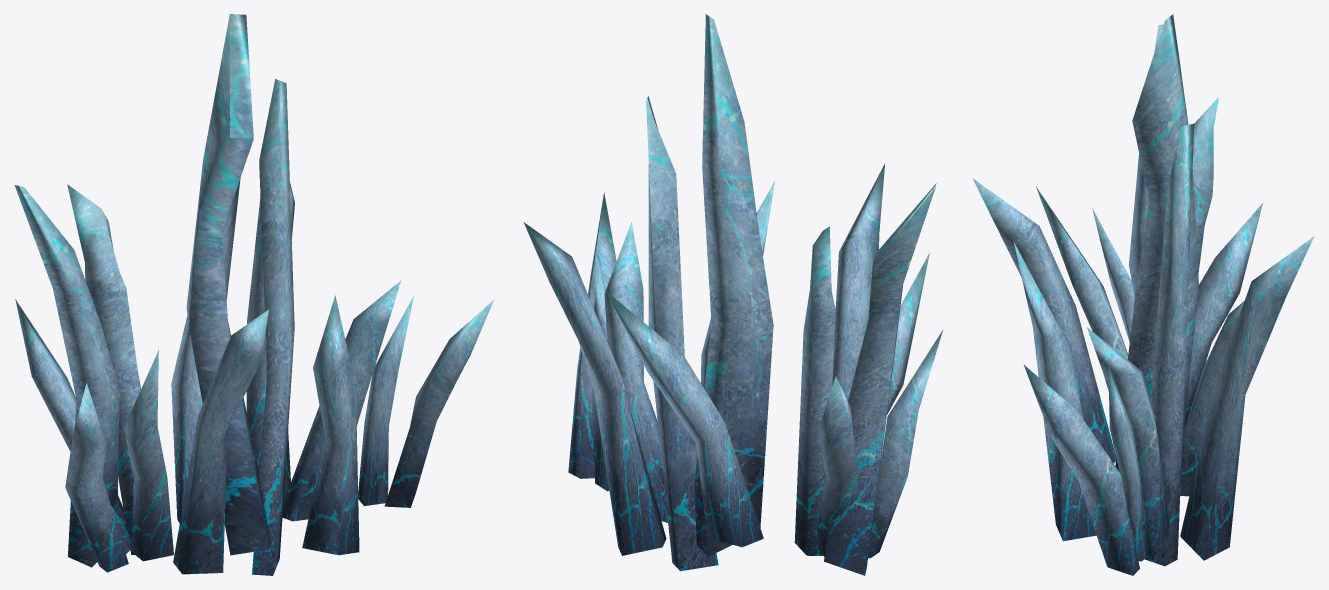
File: ice_pillar_s01.fbx
3 views of the same model, side by side, from view 1: azimuth 30°, elevation 25°; view 2: azimuth 150°, elevation 25°; view 3: azimuth 270°, elevation 25° (orthographic). The views are drawn at different scales.
Parts seen in each view (by area): view 1: ice_pillar_s01; view 2: ice_pillar_s01; view 3: ice_pillar_s01.
Boxes of the visible parts, x1=… form: ice_pillar_s01: x1=14, y1=14, x2=494, y2=575; ice_pillar_s01: x1=523, y1=14, x2=943, y2=575; ice_pillar_s01: x1=972, y1=14, x2=1314, y2=575.
Bounding box in the file's own units: 31.14 × 40.7 × 23.77.
